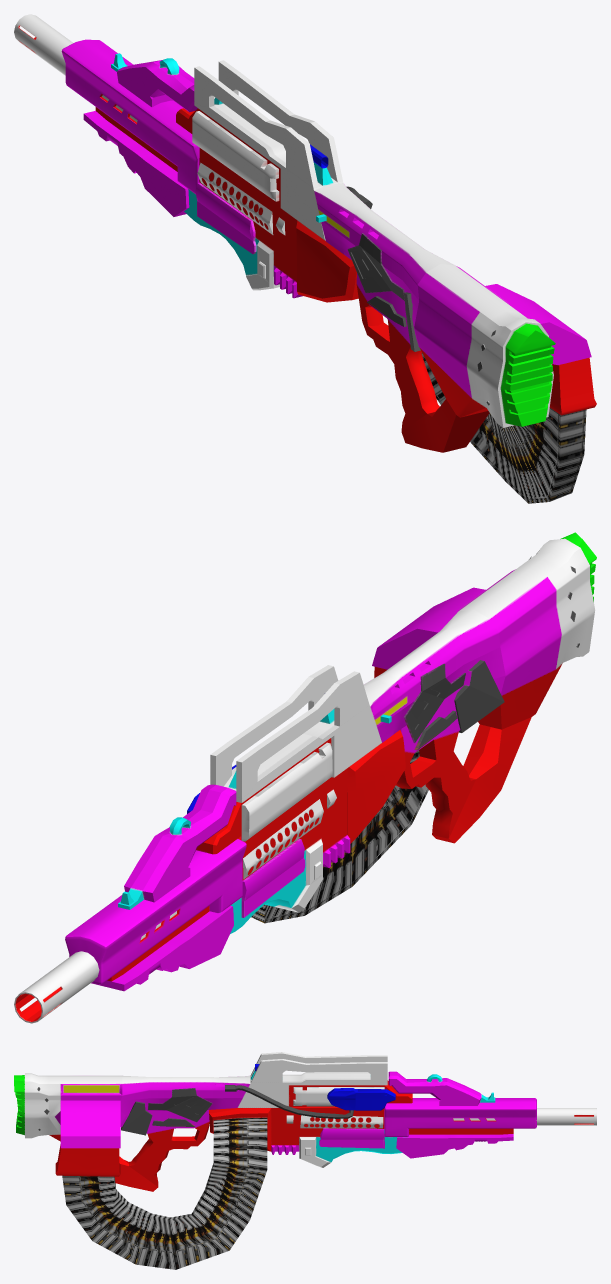
File: MC_rifle.fbx
3 views of the same model, one above another, from view 1: azimuth 30°, elevation 25°; view 2: azimuth 150°, elevation 25°; view 3: azimuth 270°, elevation 25° (orthographic). The views are drawn at different scales.
Visible parts, largest first — view 1: MC_rifle_Final_Model1; view 2: MC_rifle_Final_Model1; view 3: MC_rifle_Final_Model1.
Boxes of the visible parts, bbox=[...] form: MC_rifle_Final_Model1: bbox=[14, 14, 596, 503]; MC_rifle_Final_Model1: bbox=[14, 532, 596, 1023]; MC_rifle_Final_Model1: bbox=[14, 1052, 596, 1269].
Bounding box in the file's own units: 26.21 × 50.31 × 147.
1 material, 1 textured.
